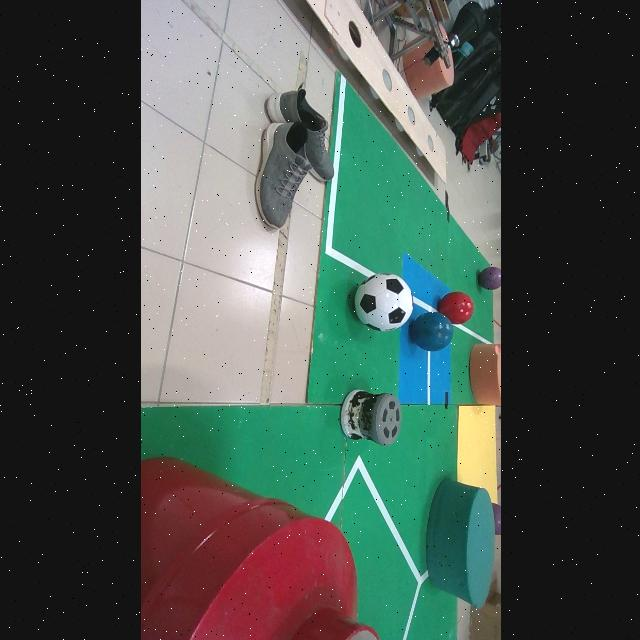B: (410, 312, 452, 351)
P: (477, 267, 500, 290), (492, 503, 500, 535)
R: (437, 292, 473, 324)
